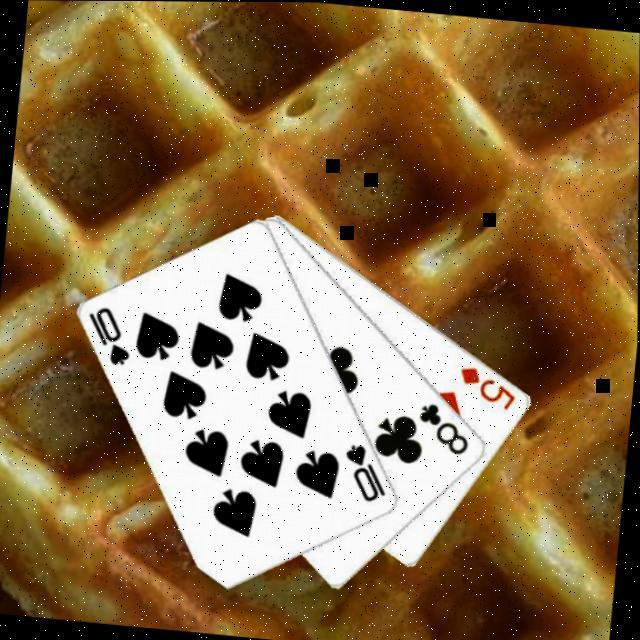10S: (80, 299, 136, 366), (338, 437, 392, 503)
5D: (453, 360, 520, 410)
8C: (411, 396, 474, 456)
